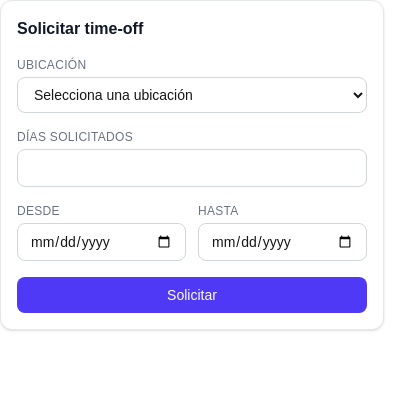
Test: an HCM rejection (insufficient balance) shows the rejection feedback
Select "Ciudad de México" in the dropdown at x=192, y=95, box x1=17 y1=77 x2=367 y2=113
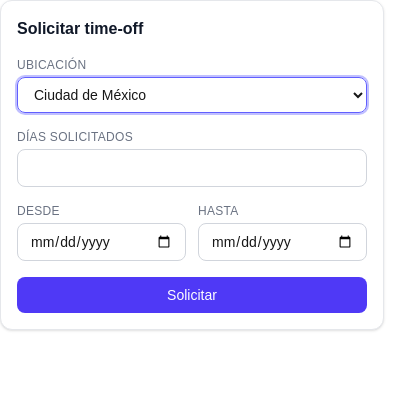
Type "3" into the number field at x=192, y=168, box x1=17 y1=149 x2=367 y2=187
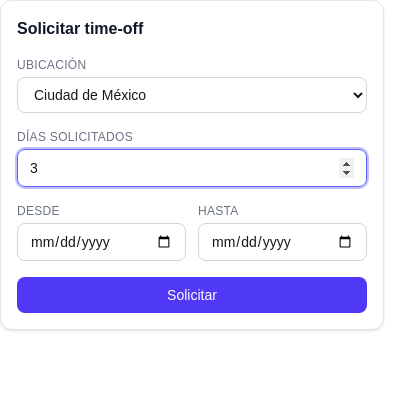
Type "2026-07-01" into the date field labelled "Desde" at x=102, y=242, box x1=17 y1=223 x2=186 y2=261
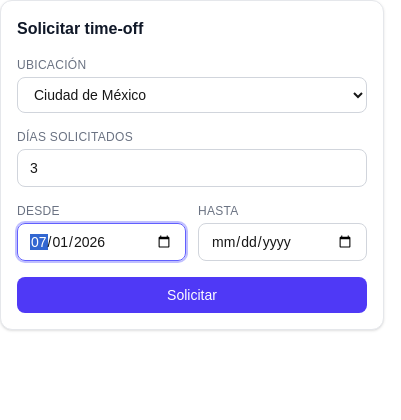
Type "2026-07-03" into the date field labelled "Hasta" at x=282, y=242, box x1=198 y1=223 x2=367 y2=261
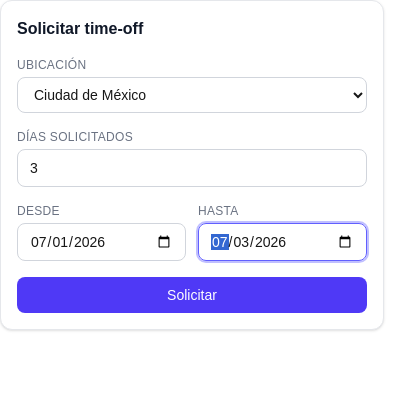
Click the button "Solicitar" at x=192, y=295, box x1=17 y1=277 x2=367 y2=313
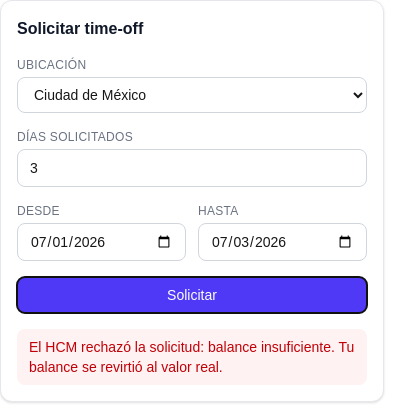
Result: the text "HCM rechazó la solicitud: balance insuficiente" is shown at x1=29 y1=339 x2=354 y2=375
